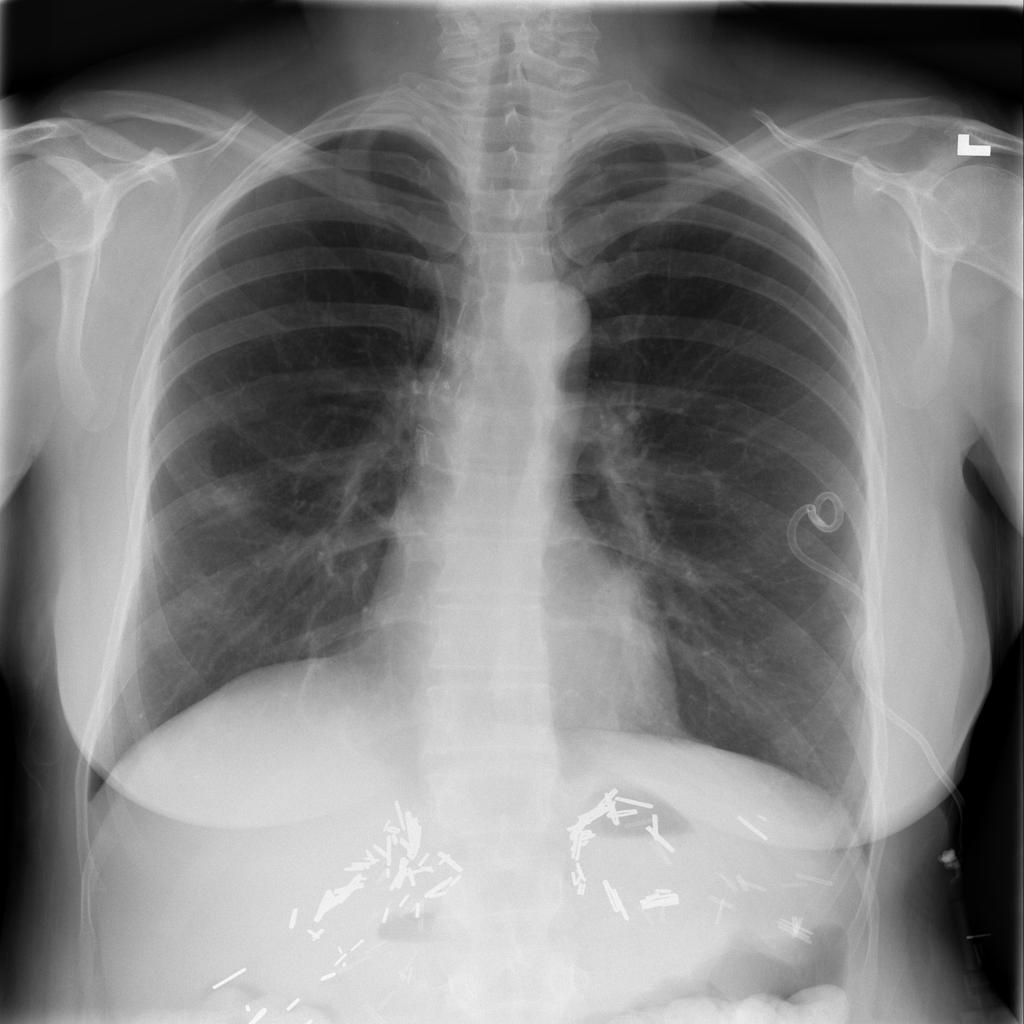nodule: (183, 463, 270, 532)
